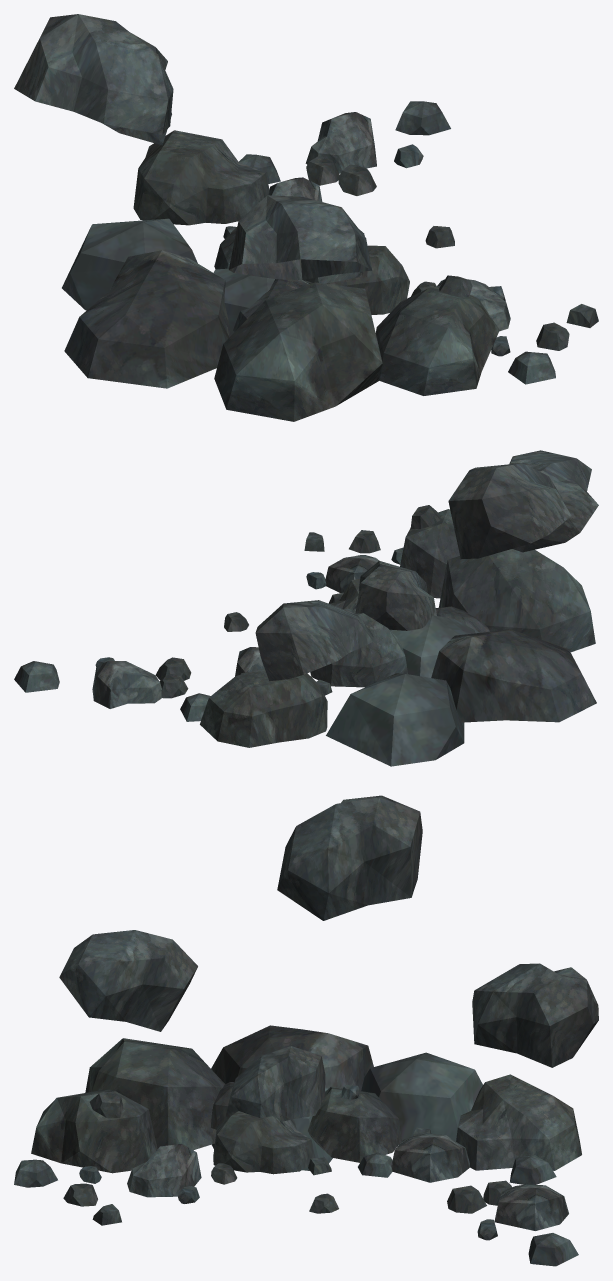
The model's file is object_rubble10.fbx.
3 renders of one model, top to bottom at view 1: azimuth 30°, elevation 25°; view 2: azimuth 150°, elevation 25°; view 3: azimuth 270°, elevation 25°, orthographic. The views are drawn at different scales.
Visible parts, largest first — view 1: obj0.086; view 2: obj0.086; view 3: obj0.086.
Boxes of the visible parts, <box> form: obj0.086: <box>14,14,598,421</box>; obj0.086: <box>14,450,598,766</box>; obj0.086: <box>14,795,598,1266</box>.
Bounding box in the file's own units: 7.27 × 4.13 × 7.63.
